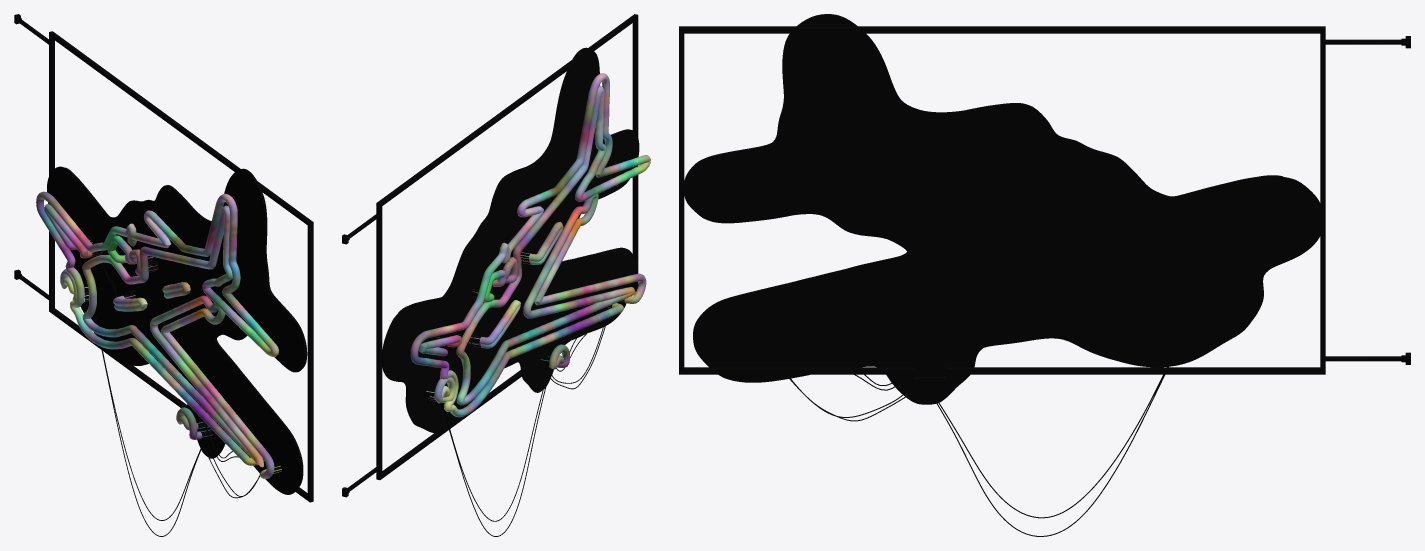
File: neonsign_09.fbx
The picture shows the model from 3 angles, left to right: view 1: azimuth 30°, elevation 25°; view 2: azimuth 150°, elevation 25°; view 3: azimuth 270°, elevation 25°; orthographic projection. The views are drawn at different scales.
Parts seen in each view (by area): view 1: neonsign_09; view 2: neonsign_09; view 3: neonsign_09.
Boxes of the visible parts, box(x1,y1,x2,y2) form: neonsign_09: box(14, 14, 313, 536); neonsign_09: box(342, 14, 650, 536); neonsign_09: box(679, 14, 1410, 536).
Size of the model in its own units: 0.1556 by 2.15 by 2.71.
